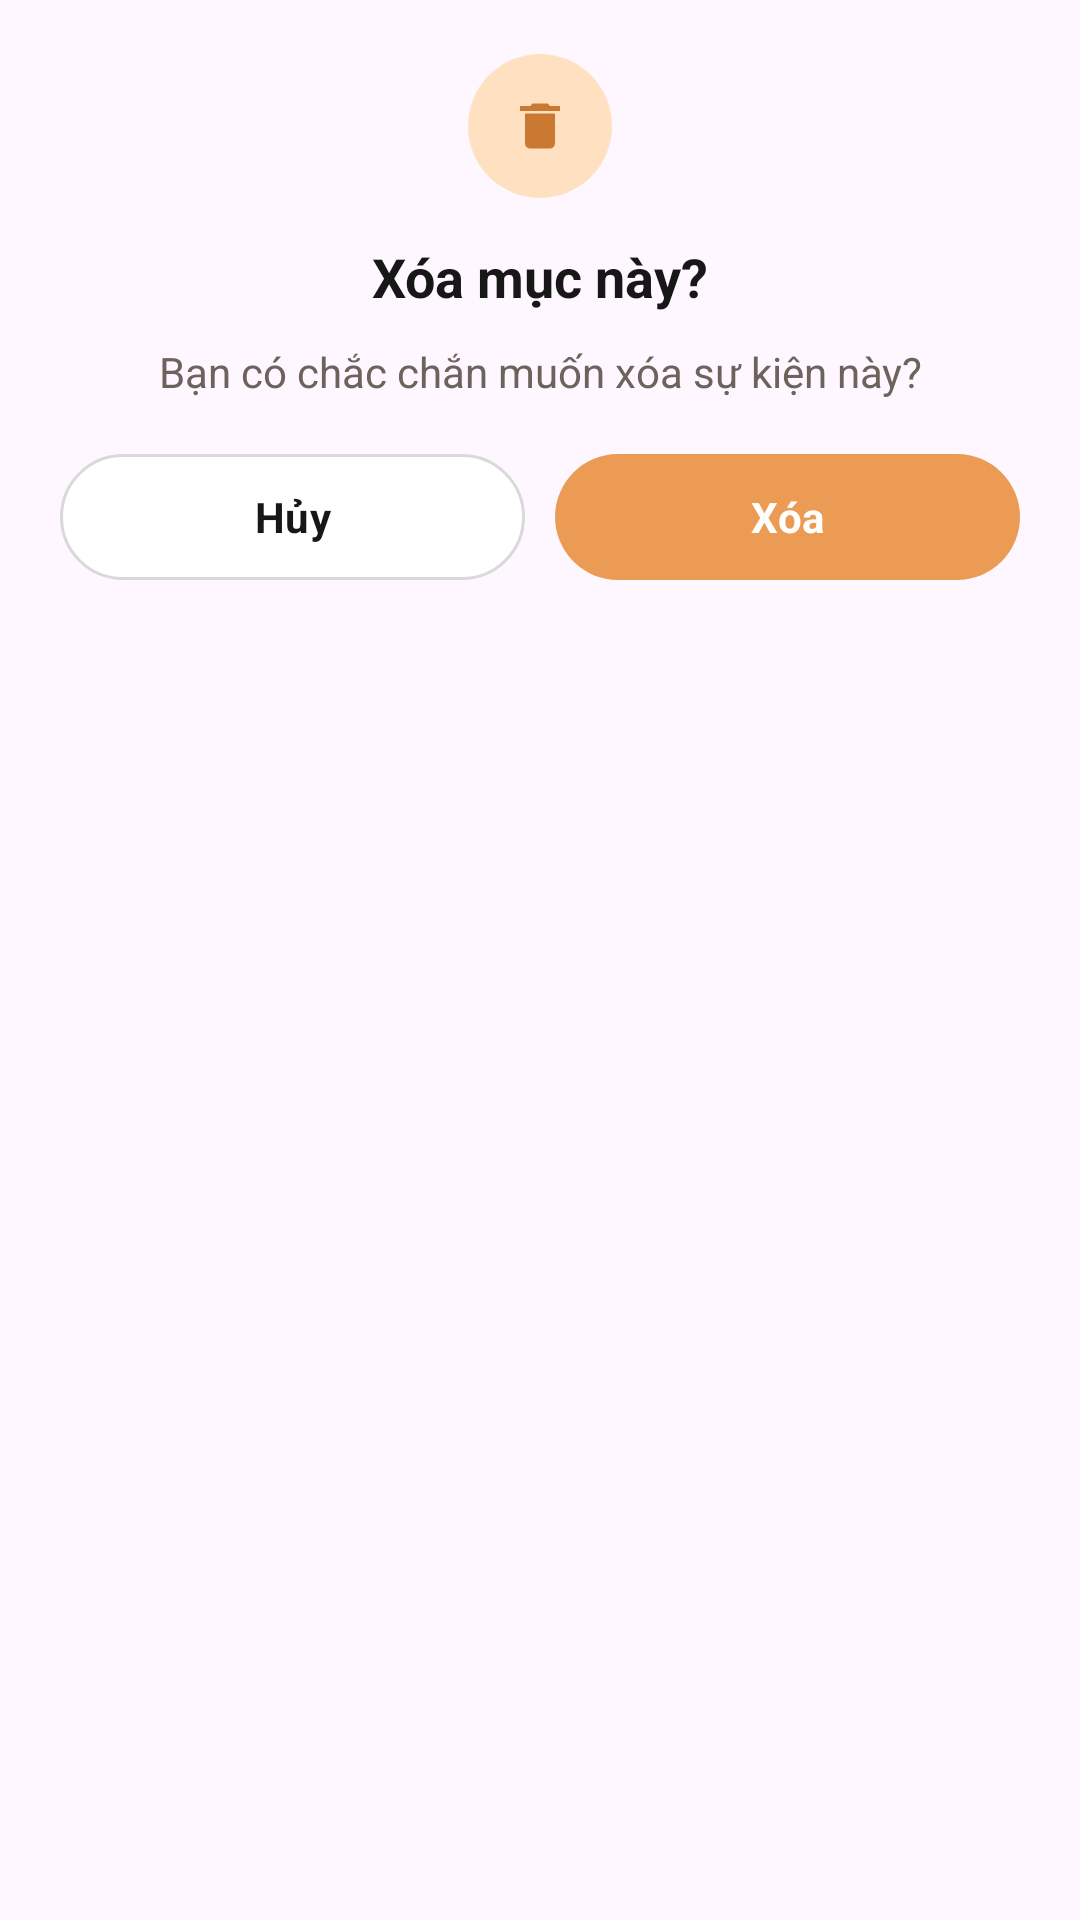

Icon click points for this 1080 × 1920 phone screenshot, format (x=x, y=y):
delete: (x=540, y=126)
